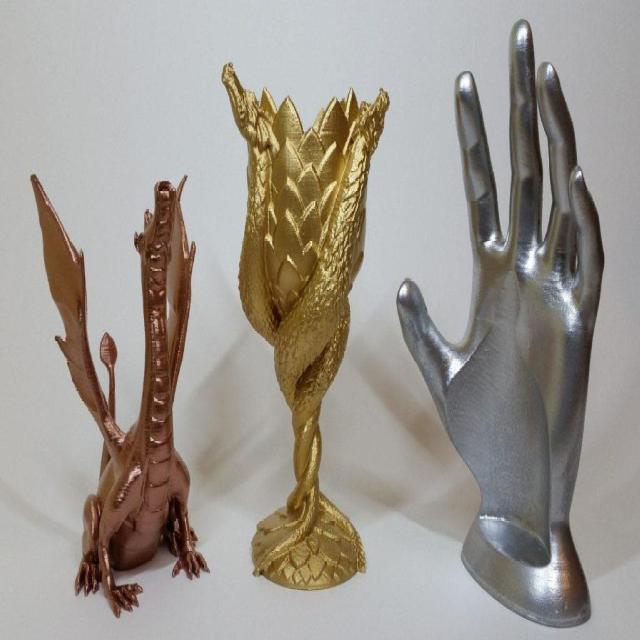Without deffect: (210, 49, 398, 617)
